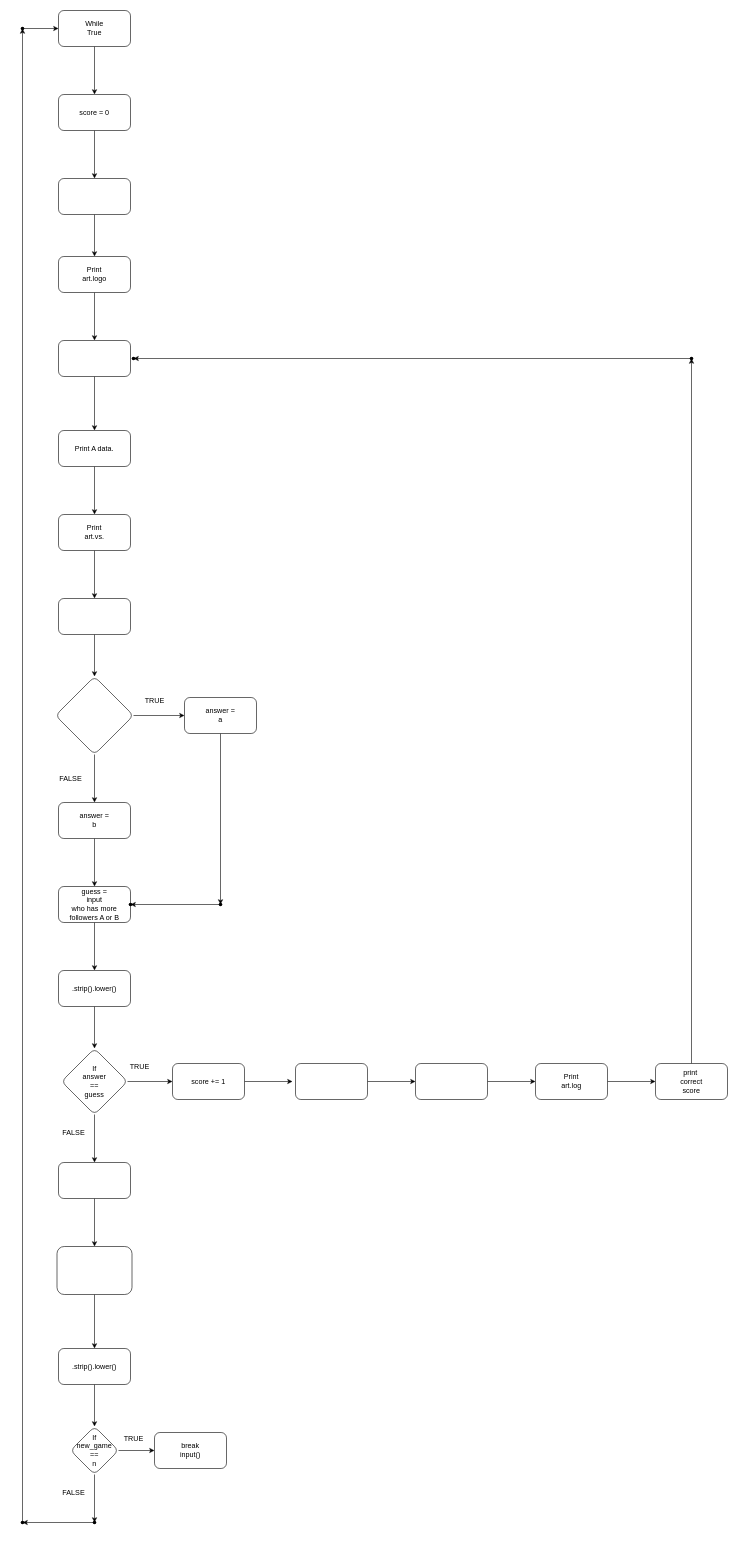
The diagram is 738 pixels wide and 1545 high, and some of its shapes have lost their labels. Each missing label, with the centre of its shape:
"A = answer" goes at point 331,1081.
"A = random person from game data dict" goes at point 94,196.
"B = random person from game data dict" goes at point 94,358.
"clear screen" goes at point 451,1081.
"If A followers > B followers" goes at point 94,715.
"new_game = input do you want to play again y/n" goes at point 94,1270.
"Print B data." goes at point 94,616.
"Print you lose score" goes at point 94,1180.
